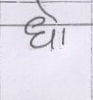o_matra: (38, 0, 74, 43)
